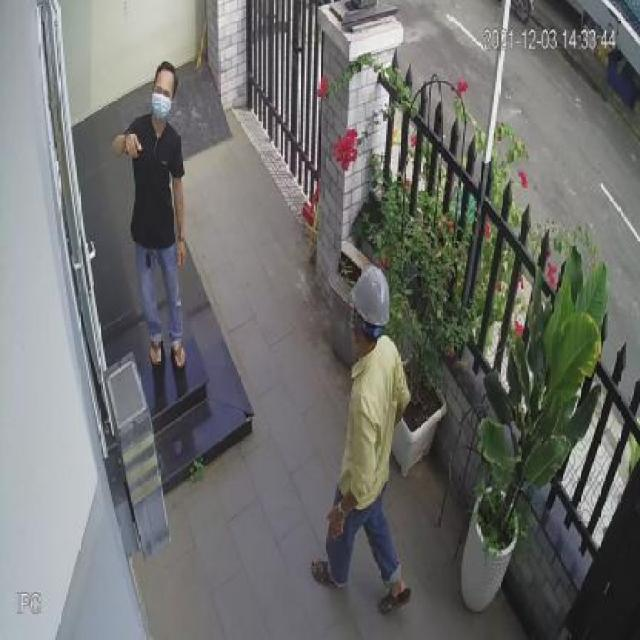Manusia: (312, 264, 410, 613), (112, 60, 186, 369)
